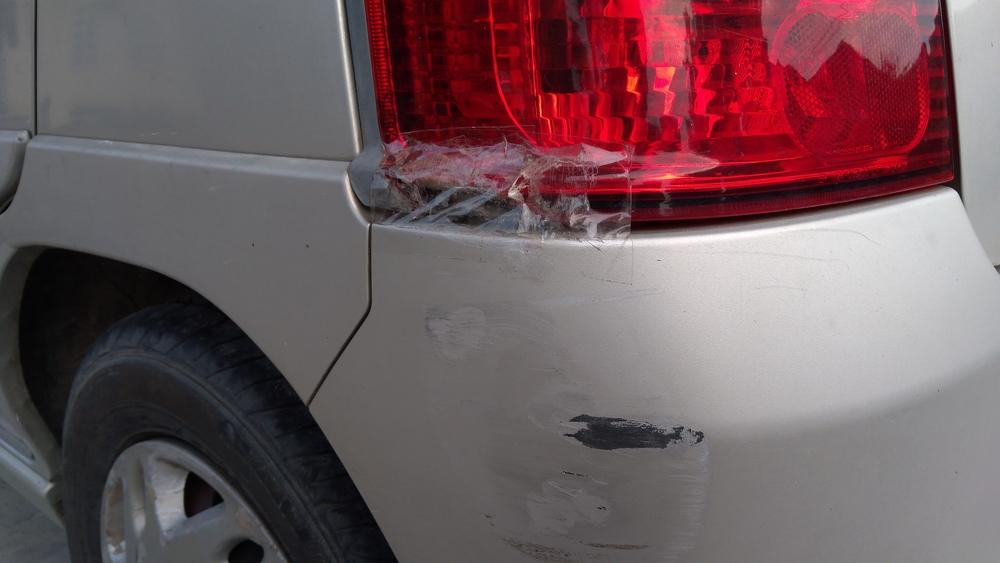scratch: (427, 237, 710, 563)
